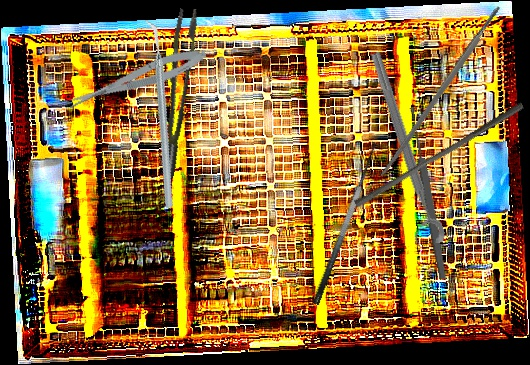Chopper: (90, 16, 228, 210)
Fixation Ring: (354, 49, 448, 251)
Micro Scissor: (64, 42, 210, 114)
Pusher: (353, 95, 525, 214)
Scalpel Handle: (378, 4, 504, 179)
Spatula Surgical: (298, 137, 384, 306)
Surgical Spoon: (407, 106, 449, 281)
Tissue Forceps: (139, 5, 215, 179)
